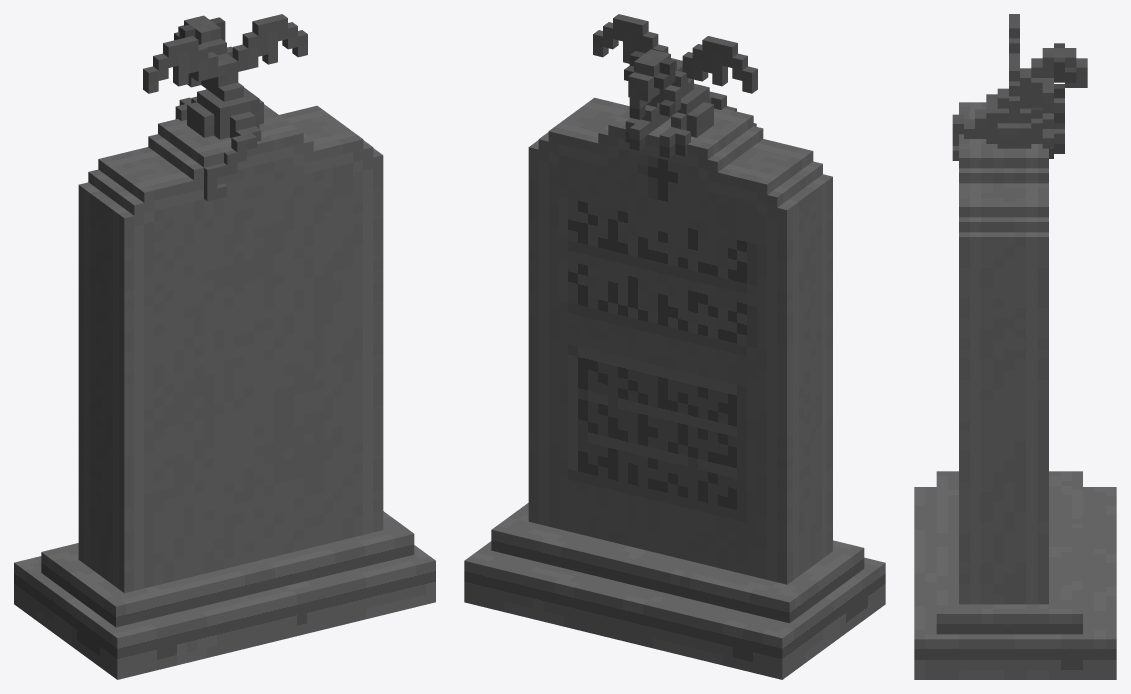
File: 3eba9ac7-45e7-4fcc-b125-40c23076c9f1.gltf
3 views of the same model, side by side, from view 1: azimuth 30°, elevation 25°; view 2: azimuth 150°, elevation 25°; view 3: azimuth 270°, elevation 25° (orthographic). The views are drawn at different scales.
Visible parts, largest first — view 1: tombstone-Local, base-Local, gargoyle-Local; view 2: tombstone-Local, base-Local, gargoyle-Local; view 3: tombstone-Local, base-Local, gargoyle-Local.
Boxes of the visible parts, x1=… form: tombstone-Local: x1=78, y1=104, x2=383, y2=593; base-Local: x1=14, y1=511, x2=435, y2=679; gargoyle-Local: x1=143, y1=14, x2=307, y2=201; tombstone-Local: x1=528, y1=97, x2=832, y2=584; base-Local: x1=464, y1=503, x2=885, y2=679; gargoyle-Local: x1=593, y1=14, x2=757, y2=158; tombstone-Local: x1=959, y1=102, x2=1048, y2=604; base-Local: x1=914, y1=471, x2=1116, y2=679; gargoyle-Local: x1=952, y1=14, x2=1087, y2=160.
Size of the model in its own units: 32 by 55.02 by 18.
Materials: 3 (3 with a texture image).
